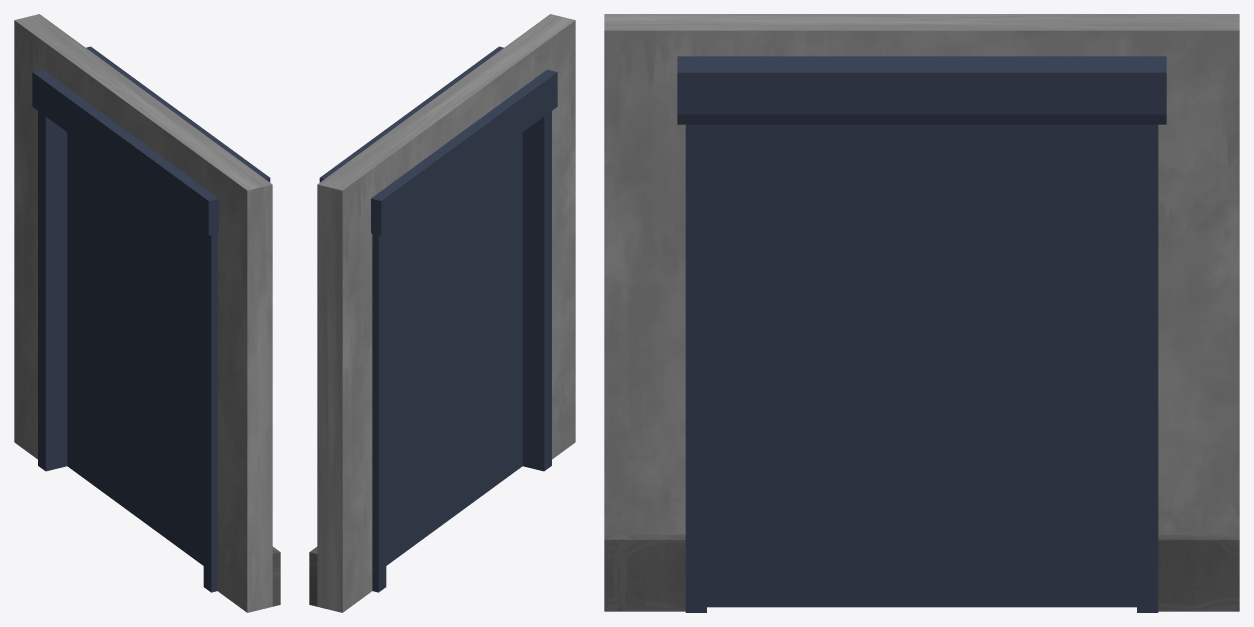
The model's file is Door_Wall_A.fbx.
The picture shows the model from 3 angles, left to right: view 1: azimuth 30°, elevation 25°; view 2: azimuth 150°, elevation 25°; view 3: azimuth 270°, elevation 25°; orthographic projection. The views are drawn at different scales.
Parts seen in each view (by area): view 1: Cube.072; view 2: Cube.072; view 3: Cube.072.
Part boxes in pixels (x1,y1,x2,y2): Cube.072: (14,14,280,612); Cube.072: (309,14,575,612); Cube.072: (604,14,1239,612).
Bounding box in the file's own units: 59.49 × 400 × 400.
